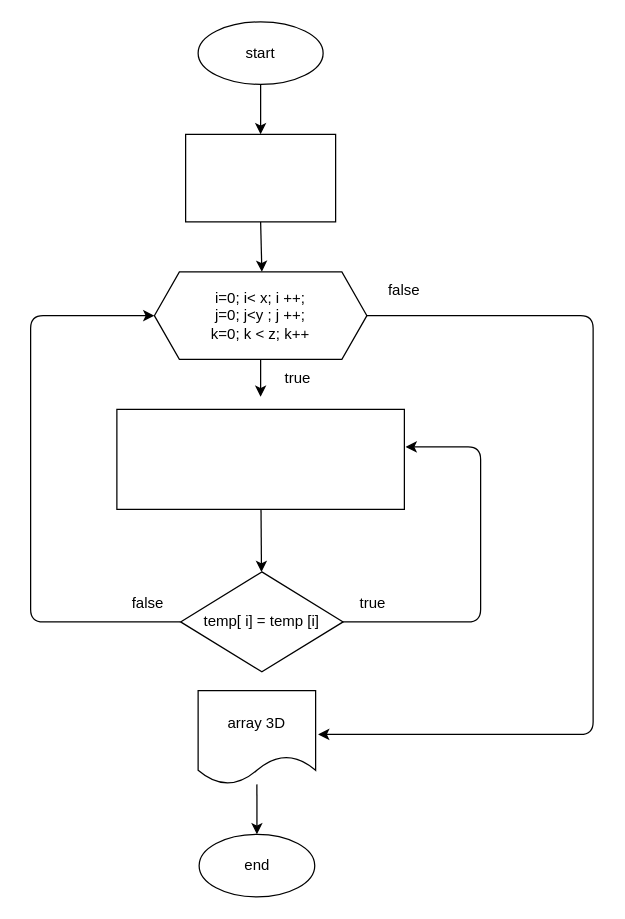
This 625x919 diagram has some shape labels left out. The shapes that lost their labels are listed below. From the top down, each one's centre as x and y in pixels, then its label:
point 260,177: array 3D [i,j,k] х,y,z temp[i]
point 260,458: temp [i]=new Random.Next (10,99] tmp[i] = number
